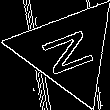N_E: (35, 23, 101, 78)
